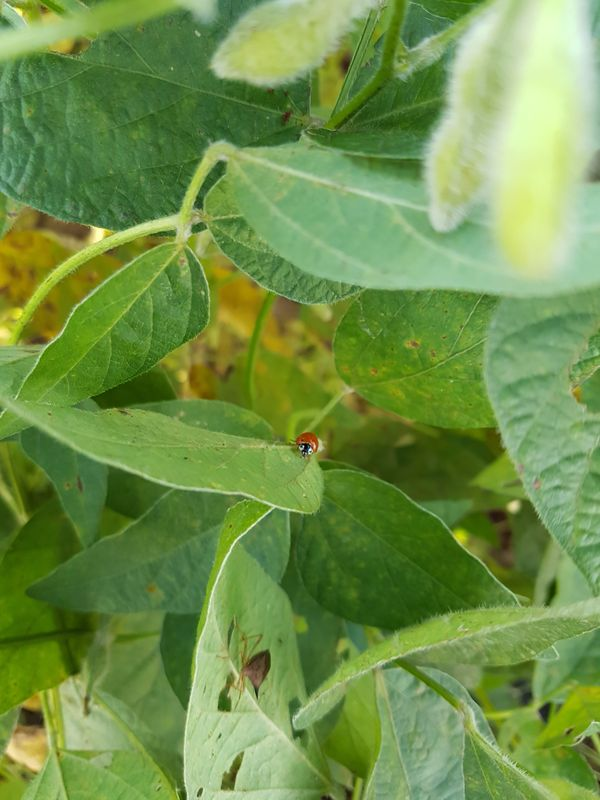Coccinellidae: (282, 426, 326, 464)
Euschistus_heros_adulto: (203, 614, 301, 713)
